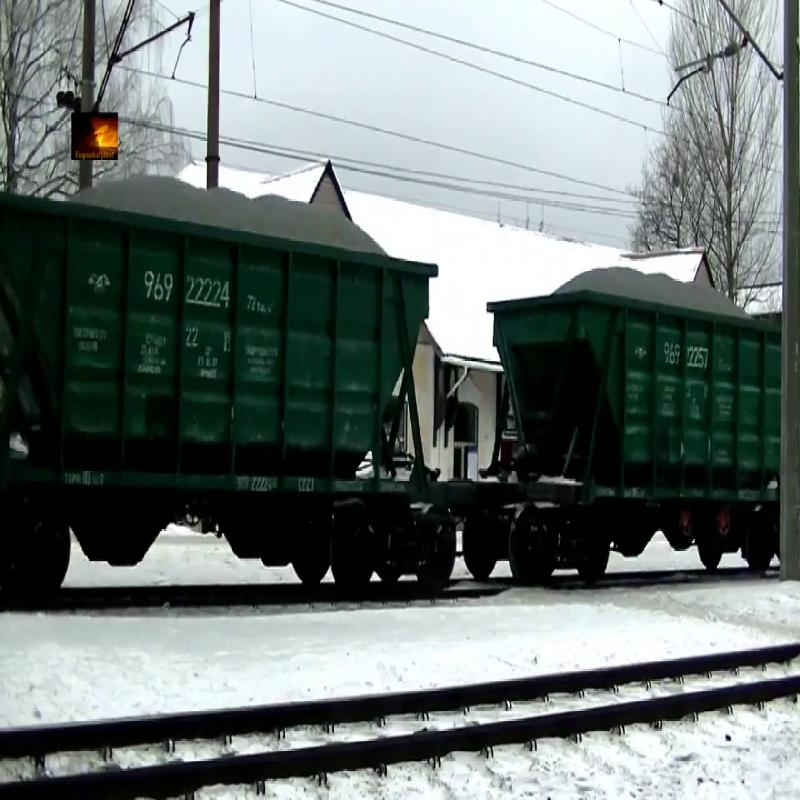train: (1, 176, 431, 607), (484, 261, 780, 593)
